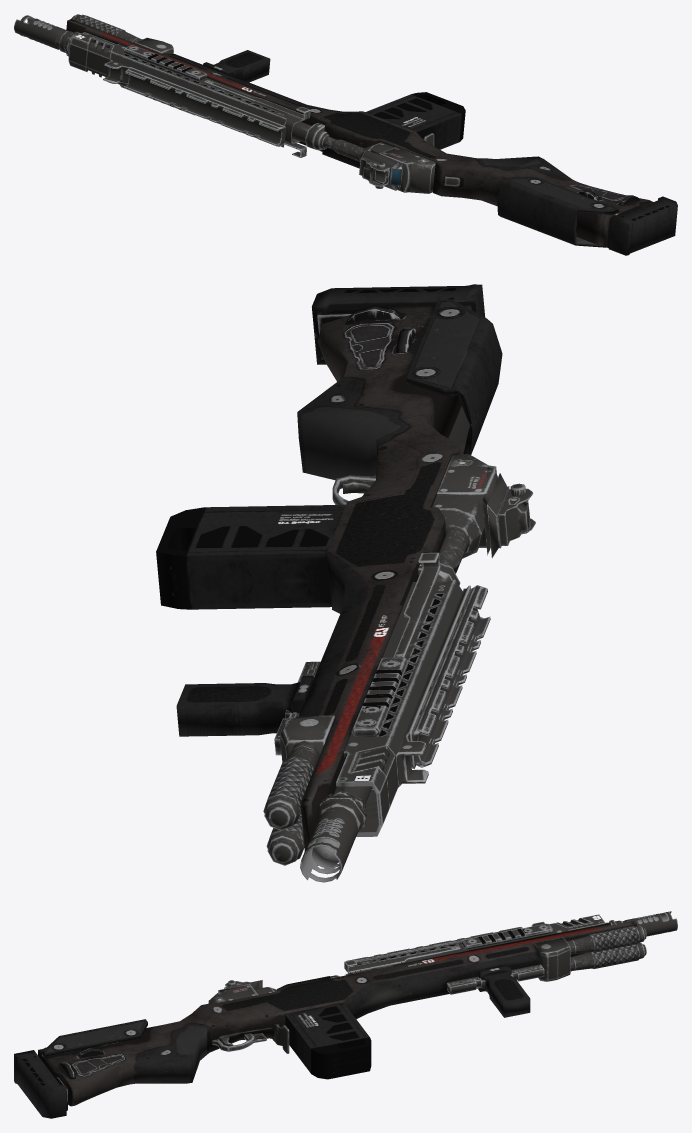
The picture shows the model from 3 angles, top to bottom: view 1: azimuth 30°, elevation 25°; view 2: azimuth 150°, elevation 25°; view 3: azimuth 270°, elevation 25°; orthographic projection. The views are drawn at different scales.
Visible parts, largest first — view 1: G7:Base_LowLOD0LOD_0, G7:LOD0LOD_0Top_Cover_Low, G7:LOD0LOD_0Top_Left_Low, G7:LOD0LOD_0Cartridge_Low, G7:LOD0LOD_0End_Piece_Low, G7:LOD0LOD_0Pipe_Low, G7:LOD0LOD_0Viewer_Low, G7:LOD0LOD_0Side_Piece_Low, G7:LOD0LOD_0Handle_Low, G7:LOD0LOD_0Bottom_Cylinder_Left_Low, G7:LOD0LOD_0Bottom_Low; view 2: G7:Base_LowLOD0LOD_0, G7:LOD0LOD_0Cartridge_Low, G7:LOD0LOD_0Top_Cover_Low, G7:LOD0LOD_0Top_Left_Low, G7:LOD0LOD_0Handle_Low, G7:LOD0LOD_0Pipe_Low, G7:LOD0LOD_0Viewer_Low, G7:LOD0LOD_0End_Piece_Low, G7:LOD0LOD_0Side_Piece_Low, G7:LOD0LOD_0Bottom_Cylinder_Left_Low, G7:LOD0LOD_0Bottom_Low, G7:LOD0LOD_0Bottom_Cylinder_Right_Low (+1 smaller); view 3: G7:Base_LowLOD0LOD_0, G7:LOD0LOD_0Cartridge_Low, G7:LOD0LOD_0Handle_Low, G7:LOD0LOD_0End_Piece_Low, G7:LOD0LOD_0Top_Cover_Low, G7:LOD0LOD_0Top_Left_Low, G7:LOD0LOD_0Side_Piece_Low, G7:LOD0LOD_0Bottom_Cylinder_Left_Low, G7:LOD0LOD_0Bottom_Cylinder_Right_Low, G7:LOD0LOD_0Bottom_Low, G7:LOD0LOD_0Pipe_Low, G7:LOD0LOD_0Trigger_Low (+1 smaller).
Boxes of the visible parts, x1,y1,x2,y2 form: G7:Base_LowLOD0LOD_0: (66,19,652,247); G7:LOD0LOD_0Top_Cover_Low: (68,32,286,147); G7:LOD0LOD_0Top_Left_Low: (497,177,618,247); G7:LOD0LOD_0Cartridge_Low: (365,92,465,149); G7:LOD0LOD_0End_Piece_Low: (608,196,677,255); G7:LOD0LOD_0Pipe_Low: (14,15,393,161); G7:LOD0LOD_0Viewer_Low: (359,147,435,193); G7:LOD0LOD_0Side_Piece_Low: (120,45,310,157); G7:LOD0LOD_0Handle_Low: (203,50,270,82); G7:LOD0LOD_0Bottom_Cylinder_Left_Low: (71,14,141,43); G7:LOD0LOD_0Bottom_Low: (135,37,173,53); G7:Base_LowLOD0LOD_0: (297,304,472,851); G7:LOD0LOD_0Cartridge_Low: (156,504,345,609); G7:LOD0LOD_0Top_Cover_Low: (336,579,490,836); G7:LOD0LOD_0Top_Left_Low: (406,299,502,454); G7:LOD0LOD_0Handle_Low: (176,661,320,755); G7:LOD0LOD_0Pipe_Low: (300,495,484,882); G7:LOD0LOD_0Viewer_Low: (436,454,535,558); G7:LOD0LOD_0End_Piece_Low: (312,284,485,364); G7:LOD0LOD_0Side_Piece_Low: (351,552,440,736); G7:LOD0LOD_0Bottom_Cylinder_Left_Low: (263,740,319,830); G7:LOD0LOD_0Bottom_Low: (280,715,335,762); G7:LOD0LOD_0Bottom_Cylinder_Right_Low: (266,813,304,865); G7:Base_LowLOD0LOD_0: (38,921,636,1106); G7:LOD0LOD_0Cartridge_Low: (285,1003,371,1079); G7:LOD0LOD_0Handle_Low: (447,964,544,1017); G7:LOD0LOD_0End_Piece_Low: (14,1050,68,1118); G7:LOD0LOD_0Top_Cover_Low: (345,914,605,975); G7:LOD0LOD_0Top_Left_Low: (43,1019,147,1056); G7:LOD0LOD_0Side_Piece_Low: (344,923,552,973); G7:LOD0LOD_0Bottom_Cylinder_Left_Low: (567,926,646,954); G7:LOD0LOD_0Bottom_Cylinder_Right_Low: (570,942,646,971); G7:LOD0LOD_0Bottom_Low: (533,937,570,981); G7:LOD0LOD_0Pipe_Low: (254,911,677,994); G7:LOD0LOD_0Trigger_Low: (212,1024,289,1053).
Bounding box in the file's own units: 0.5634 × 0.1028 × 1.01.
